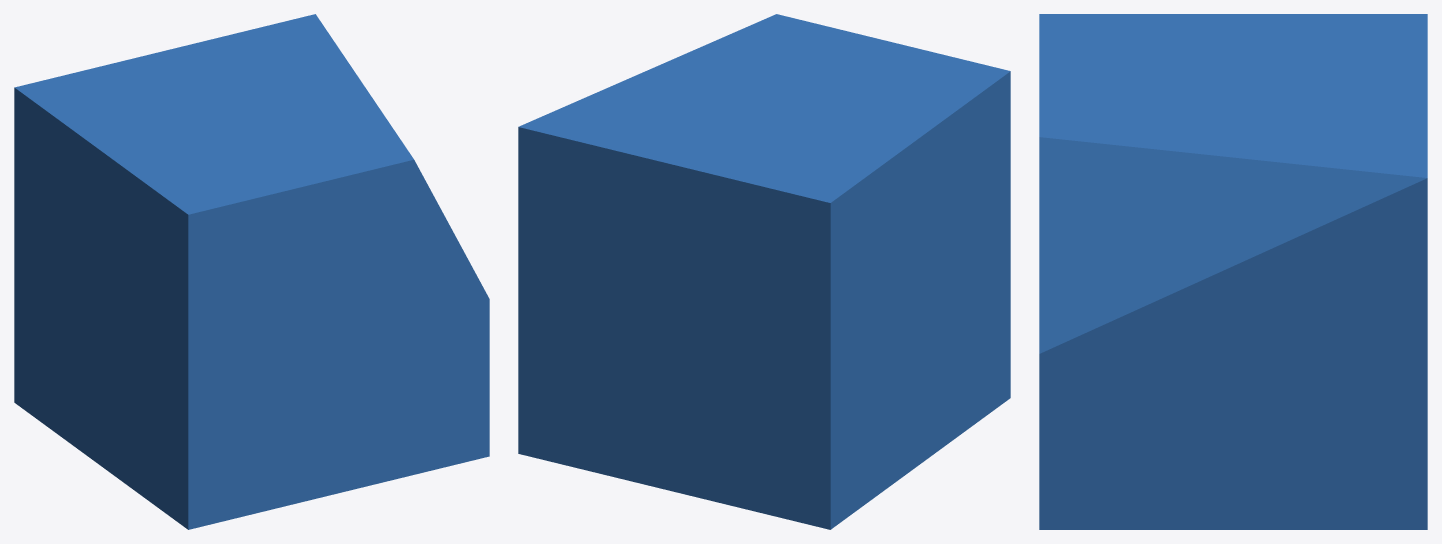
The model's file is r5c4_body_blue.gltf.
The picture shows the model from 3 angles, left to right: view 1: azimuth 30°, elevation 25°; view 2: azimuth 150°, elevation 25°; view 3: azimuth 270°, elevation 25°; orthographic projection. The views are drawn at different scales.
Parts seen in each view (by area): view 1: r5c4_body_blue; view 2: r5c4_body_blue; view 3: r5c4_body_blue.
Boxes of the visible parts, left/top/right/bottom form: r5c4_body_blue: left=14, top=14, right=489, bottom=529; r5c4_body_blue: left=518, top=14, right=1010, bottom=529; r5c4_body_blue: left=1039, top=14, right=1427, bottom=529.
Size of what is drawn, in the model's own units: 2 by 2 by 2.
1 material, 1 textured.
